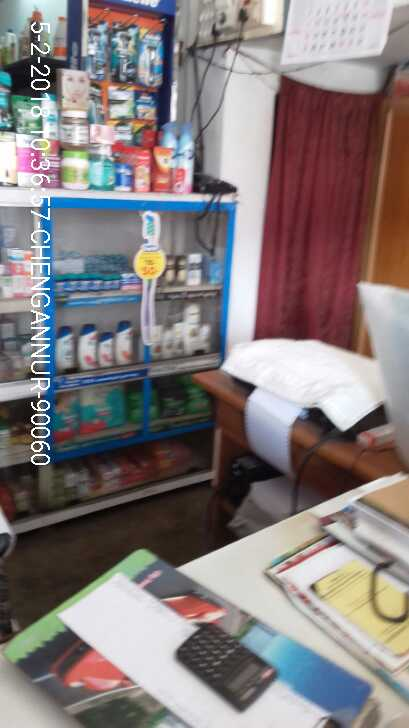vicks: (53, 255, 145, 293)
